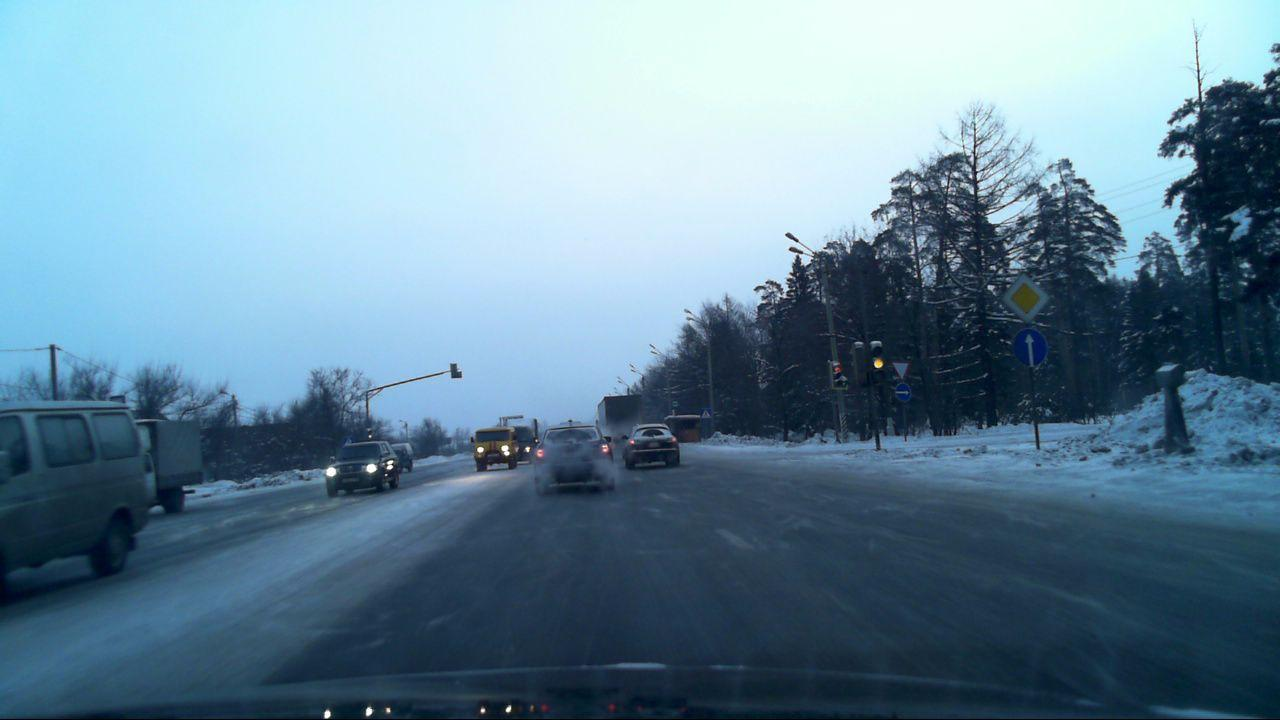2_1: (1001, 271, 1048, 321)
2_4: (892, 360, 910, 380)
4_1_1: (1011, 325, 1050, 369), (893, 382, 912, 403)
